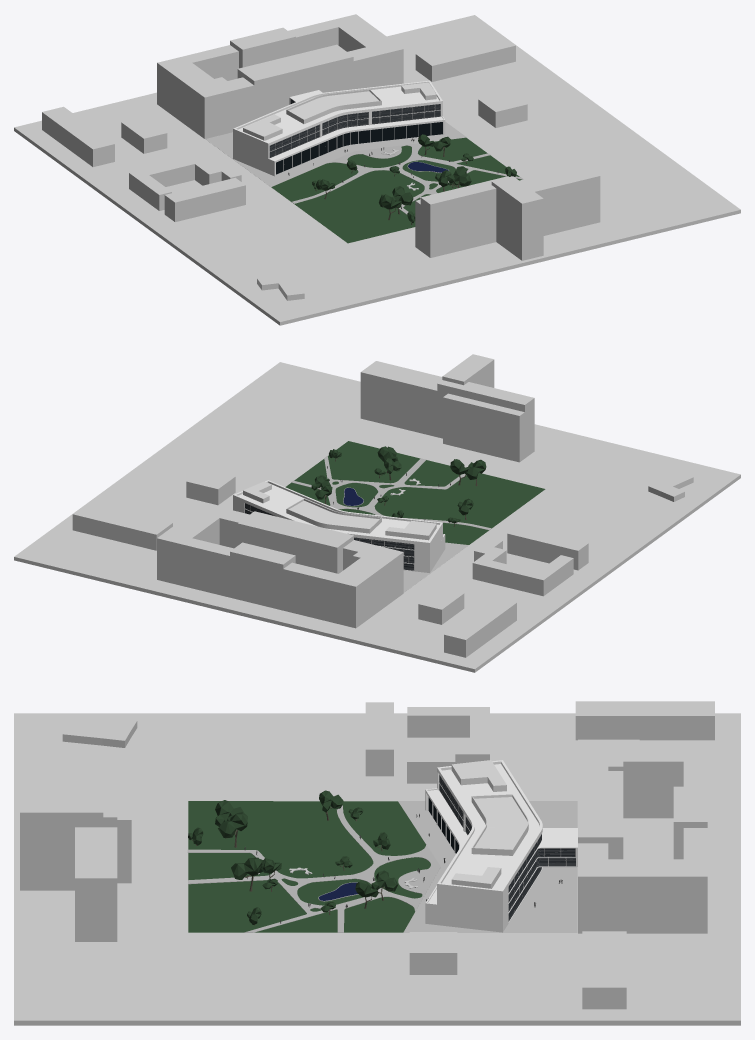
File: campus_web_test.gltf
3 views of the same model, one above another, from view 1: azimuth 30°, elevation 25°; view 2: azimuth 150°, elevation 25°; view 3: azimuth 270°, elevation 25° (orthographic). The views are drawn at different scales.
Parts seen in each view (by area): view 1: backr_buildings, ground, lvl_3, lvl_2, tree00, path_park, main_B, lvl1; view 2: backr_buildings, ground, lvl_3, tree00, path_park; view 3: backr_buildings, ground, lvl_3, path_park, tree00, lvl_2, lvl1, main_B.
Boxes of the visible parts, x1,y1,x2,y2 form: backr_buildings: (14,14,740,325); ground: (205,122,521,243); lvl_3: (233,80,442,152); lvl_2: (233,90,445,162); tree00: (312,134,516,224); path_park: (292,143,523,214); main_B: (233,127,445,176); lvl1: (233,104,445,169); backr_buildings: (14,354,740,672); ground: (285,441,545,592); lvl_3: (233,480,442,551); tree00: (311,446,486,526); path_park: (291,456,491,530); backr_buildings: (14,701,740,1025); ground: (188,801,577,932); lvl_3: (437,760,542,903); path_park: (187,805,440,932); tree00: (188,790,397,925); lvl_2: (425,780,577,913); lvl1: (425,791,577,922); main_B: (425,800,542,932).
Size of the model in its own units: 270 by 34 by 270.
Materials: 12 (1 with a texture image).
